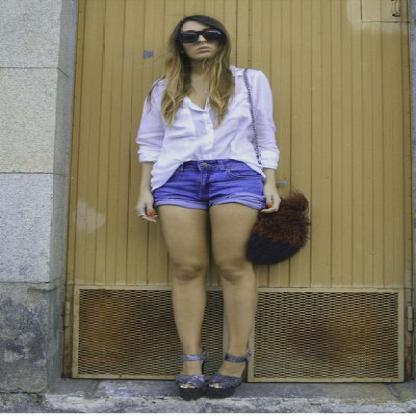bag: (244, 191, 311, 268)
shirt: (135, 65, 279, 189)
shoe: (170, 351, 261, 401)
shorts: (150, 158, 278, 218)
